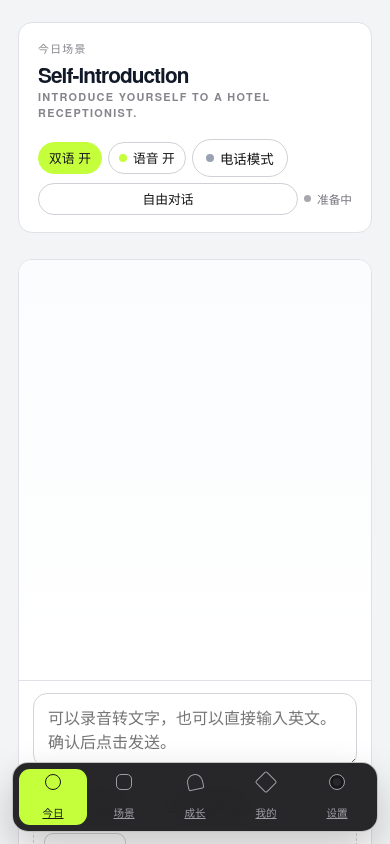
Test: offers a free-talk entry in today view
Expected: the text "今日场景" is shown, [38,41,87,56]
Step 1. Click the button "自由对话" → (168, 198), box [38,182,298,214]
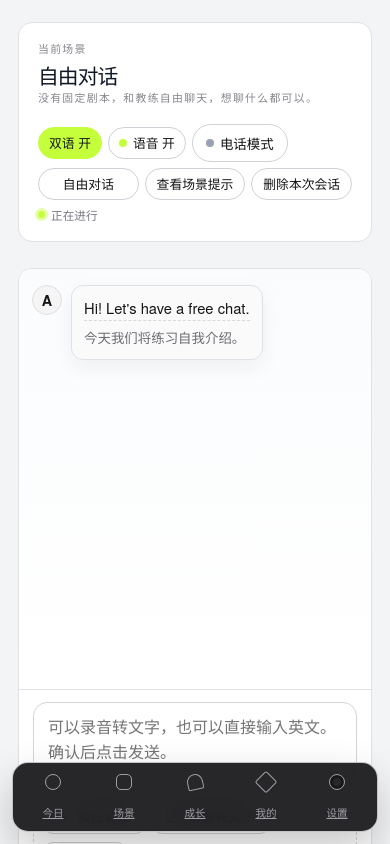
Now the text "Hi! Let's have a free chat." is shown, box [84,297,250,320]
